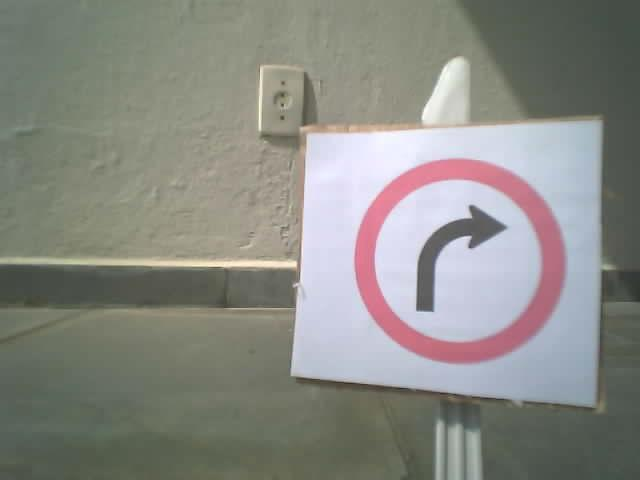R-25b_direita: (351, 156, 567, 363)
